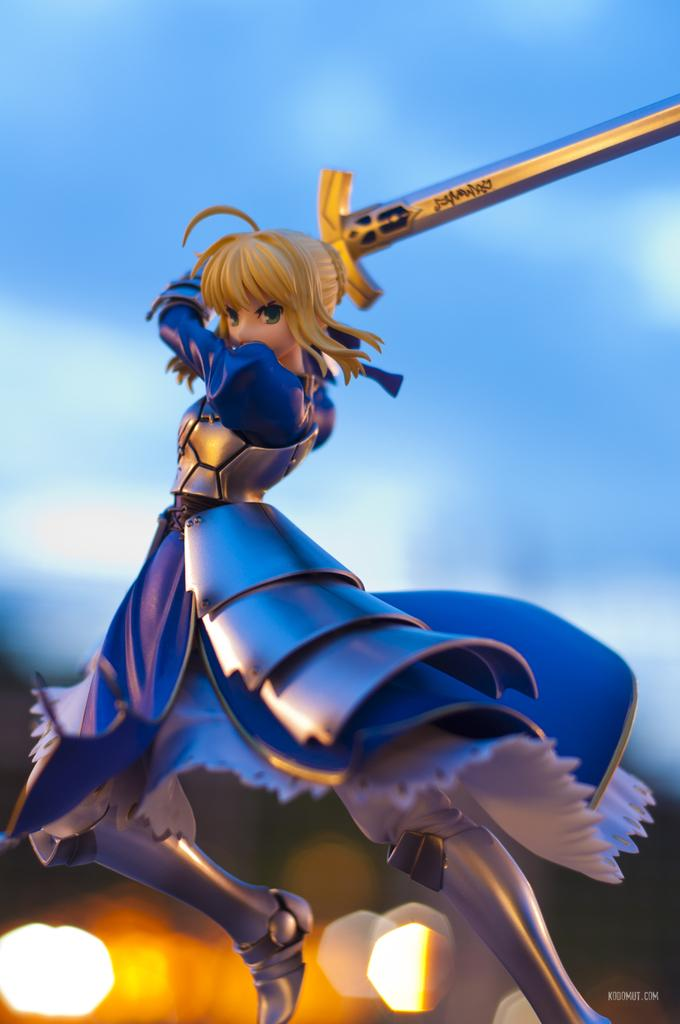knife: (317, 88, 679, 315)
